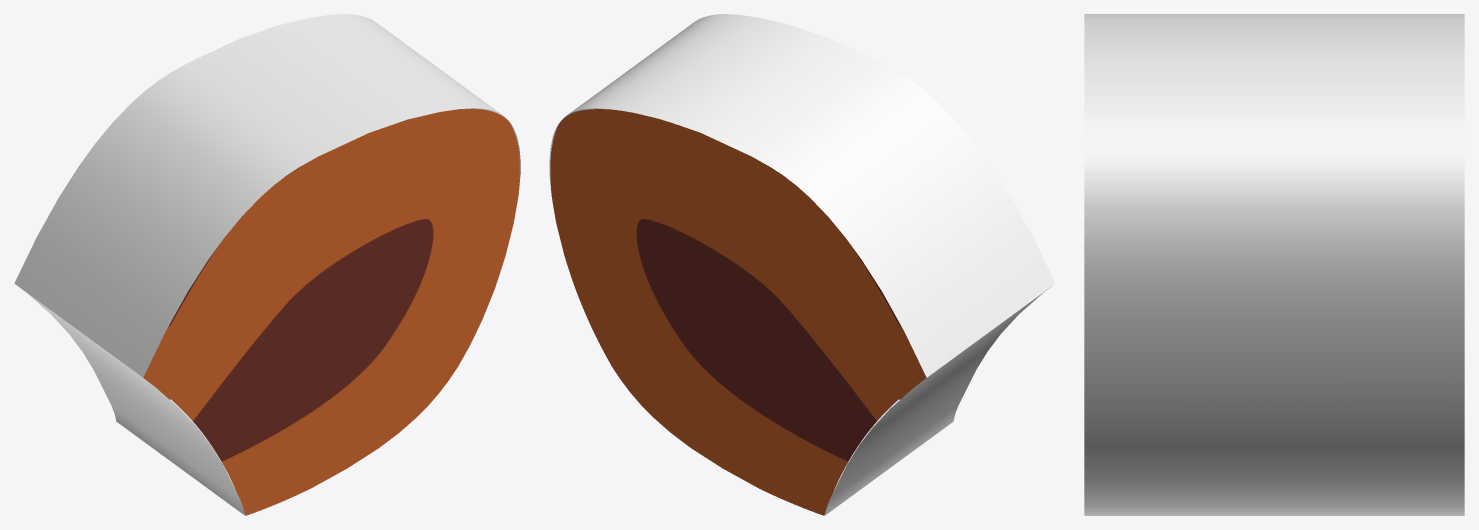
The model's file is ears.obj.
3 renders of one model, left to right at view 1: azimuth 30°, elevation 25°; view 2: azimuth 150°, elevation 25°; view 3: azimuth 270°, elevation 25°, orthographic. The views are drawn at different scales.
Visible parts, largest first — view 1: Vector Smart Object; view 2: Vector Smart Object; view 3: Vector Smart Object.
Part boxes in pixels (x1,y1,x2,y2): Vector Smart Object: (14,14,520,515); Vector Smart Object: (549,14,1055,515); Vector Smart Object: (1084,14,1464,515).
Bounding box in the file's own units: 4.23 × 3.82 × 2.5.
Materials: 3 (3 with a texture image).
